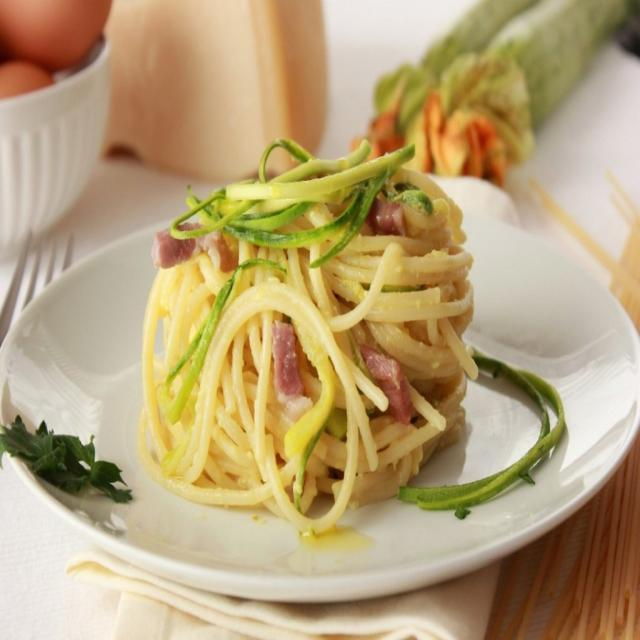Pasta with carbonara sauce: (115, 103, 488, 544)
